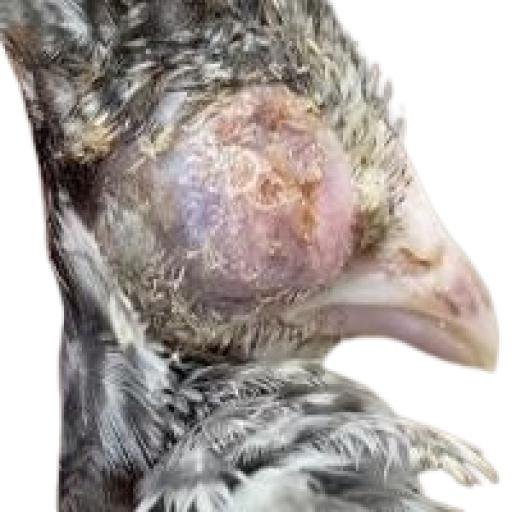disease: (73, 76, 359, 334), (172, 78, 296, 129)
